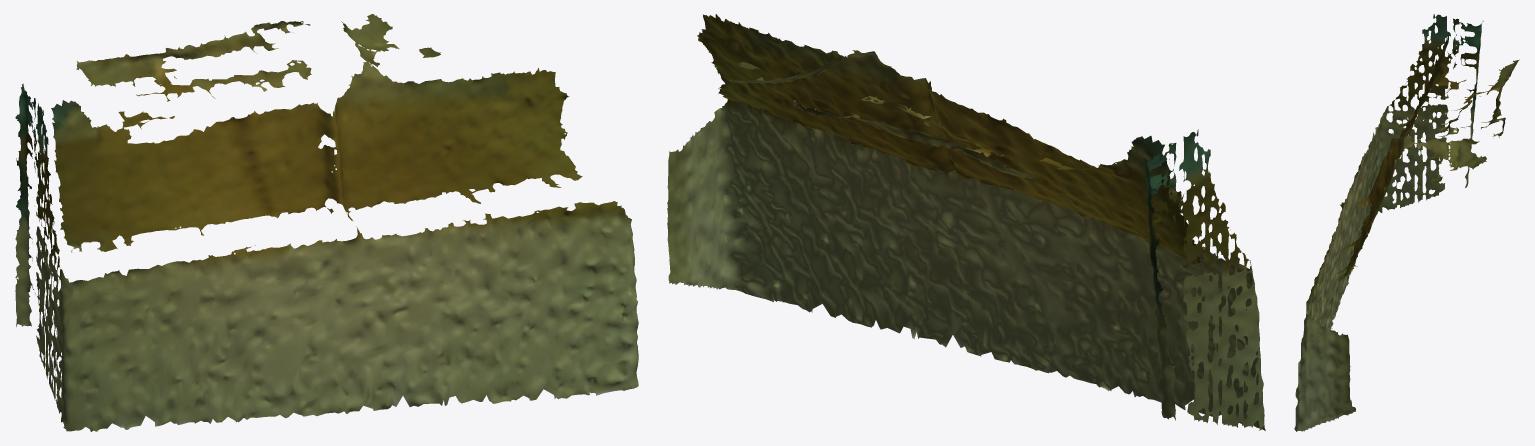
The model's file is color_model_f001_20260206_132728.obj.
3 views of the same model, side by side, from view 1: azimuth 30°, elevation 25°; view 2: azimuth 150°, elevation 25°; view 3: azimuth 270°, elevation 25° (orthographic). The views are drawn at different scales.
Bounding box in the file's own units: 1.78 × 1.05 × 0.8979.
